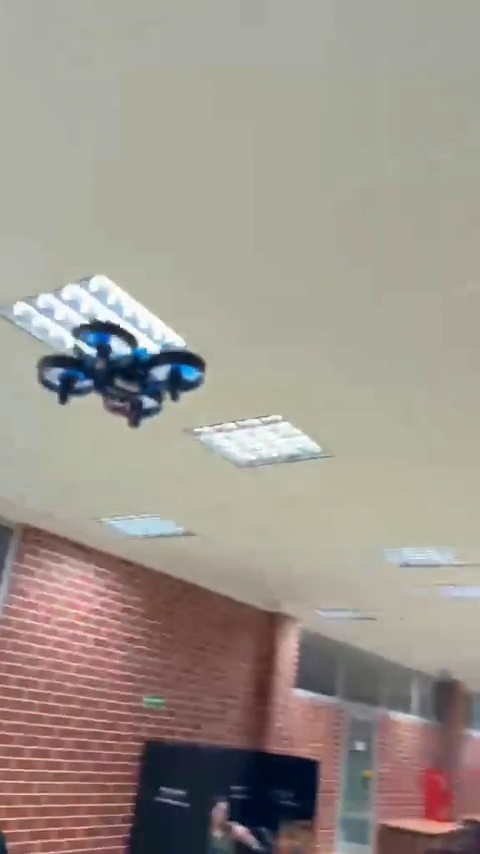drone: (37, 324, 204, 426)
